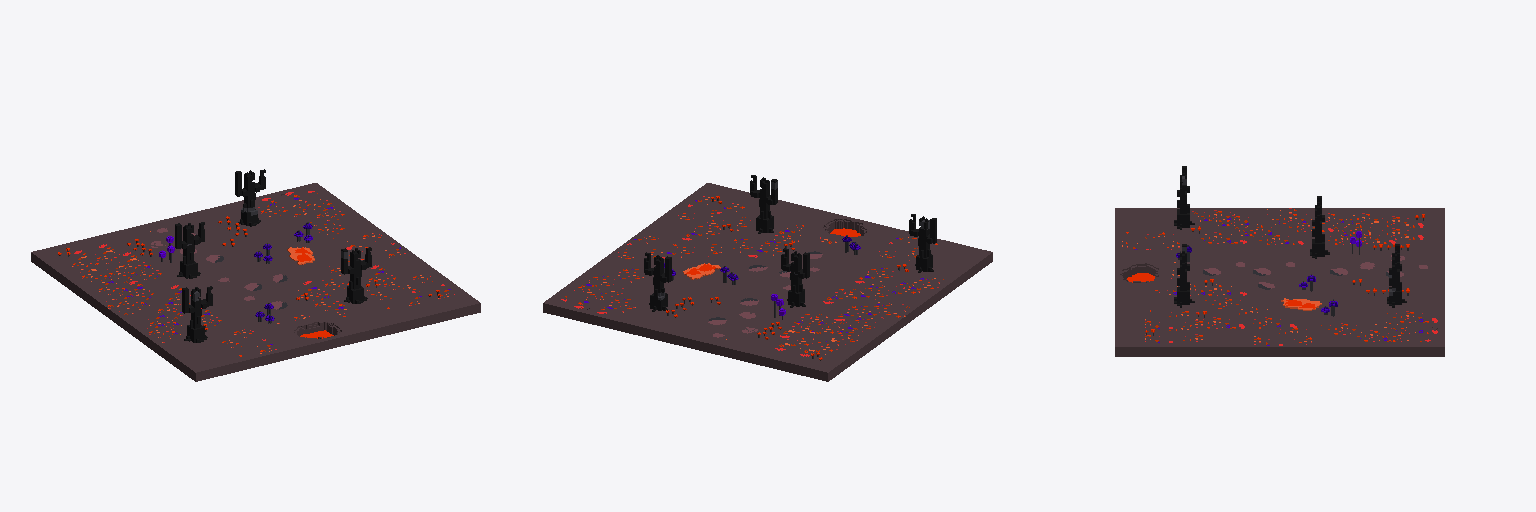
3 renders of one model, left to right at view 1: azimuth 30°, elevation 25°; view 2: azimuth 150°, elevation 25°; view 3: azimuth 270°, elevation 25°, orthographic.
Parts seen in each view (by area): view 1: Model; view 2: Model; view 3: Model.
Part boxes in pixels (bbox=[...]): Model: bbox=[31, 169, 480, 381]; Model: bbox=[543, 175, 992, 381]; Model: bbox=[1115, 166, 1444, 356].
Size of the model in its own units: 32 by 6.62 by 32.
1 materials, 1 textured.